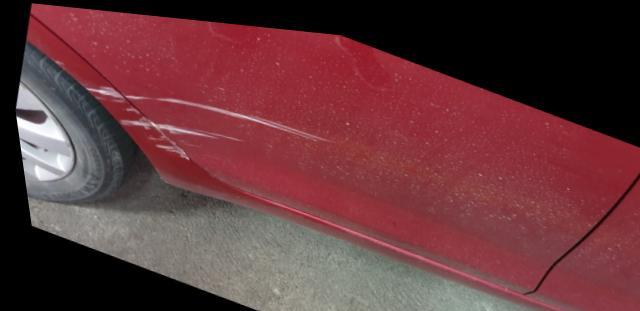scratch: (124, 88, 334, 152), (76, 77, 191, 157)
